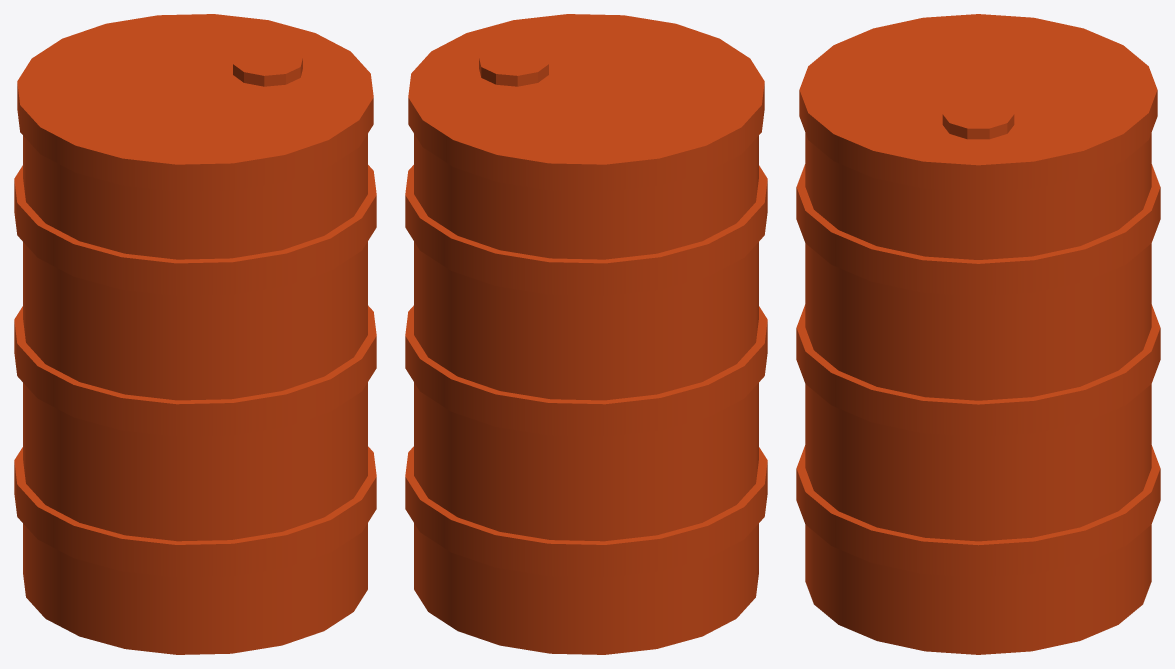
The model's file is gen-barrel-steel-1.glb.
3 renders of one model, left to right at view 1: azimuth 30°, elevation 25°; view 2: azimuth 150°, elevation 25°; view 3: azimuth 270°, elevation 25°, orthographic.
Visible parts, largest first — view 1: gen-barrel-steel-1_part1; view 2: gen-barrel-steel-1_part1; view 3: gen-barrel-steel-1_part1.
Boxes of the visible parts, x1=… form: gen-barrel-steel-1_part1: x1=14, y1=14, x2=376, y2=654; gen-barrel-steel-1_part1: x1=405, y1=14, x2=767, y2=654; gen-barrel-steel-1_part1: x1=796, y1=14, x2=1160, y2=654.
Size of the model in its own units: 610 by 930 by 610.
